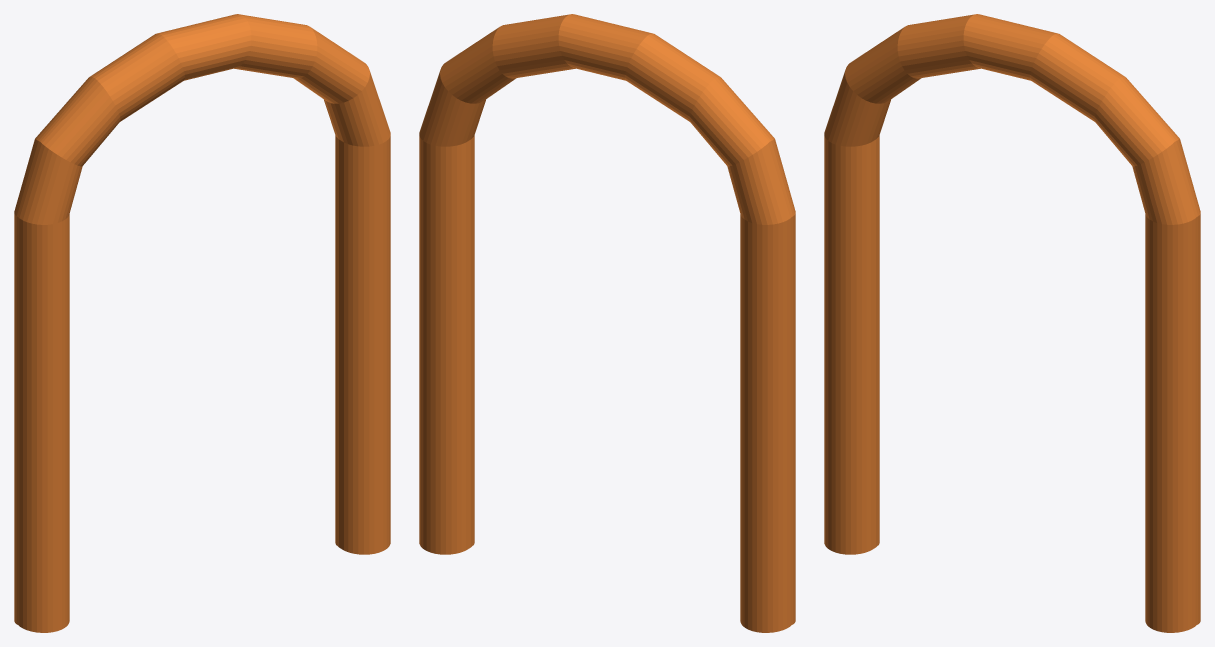
The model's file is gate.fbx.
The picture shows the model from 3 angles, left to right: view 1: azimuth 30°, elevation 25°; view 2: azimuth 150°, elevation 25°; view 3: azimuth 330°, elevation 25°; orthographic projection.
Visible parts, largest first — view 1: 円柱; view 2: 円柱; view 3: 円柱.
Boxes of the visible parts, x1,y1,x2,y2 form: 円柱: [14, 14, 390, 632]; 円柱: [419, 14, 795, 632]; 円柱: [824, 14, 1200, 632].
Bounding box in the file's own units: 1553 × 2240 × 200.
